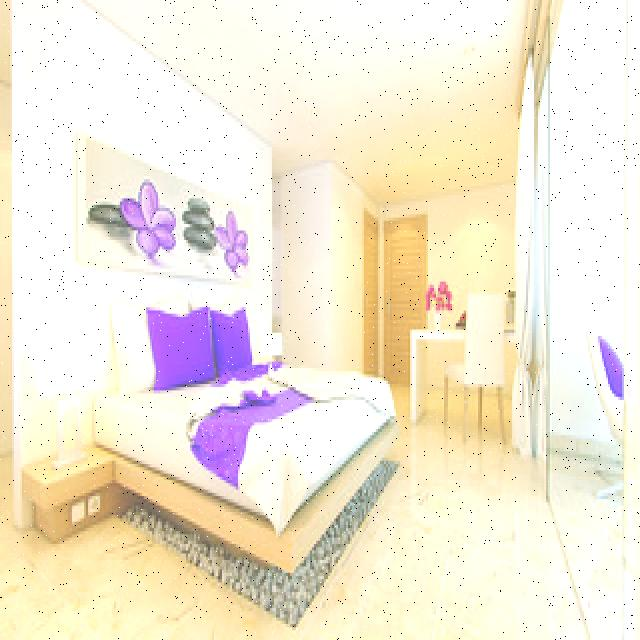bed: (99, 299, 388, 552)
